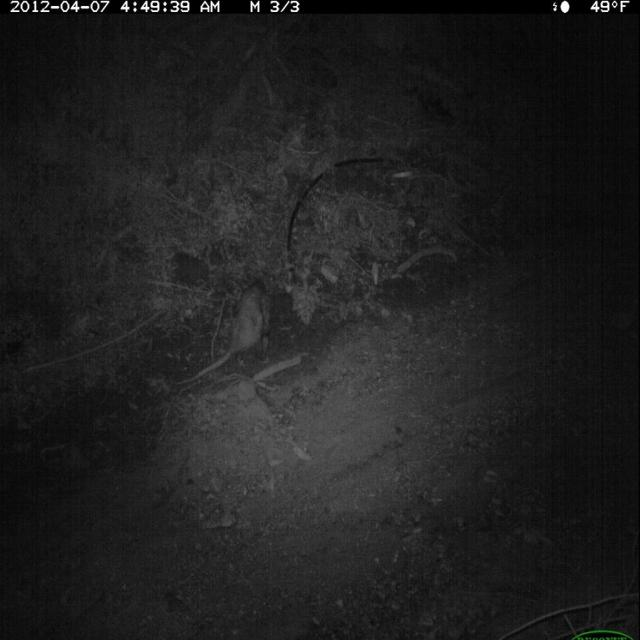opossum: (173, 272, 287, 399)
